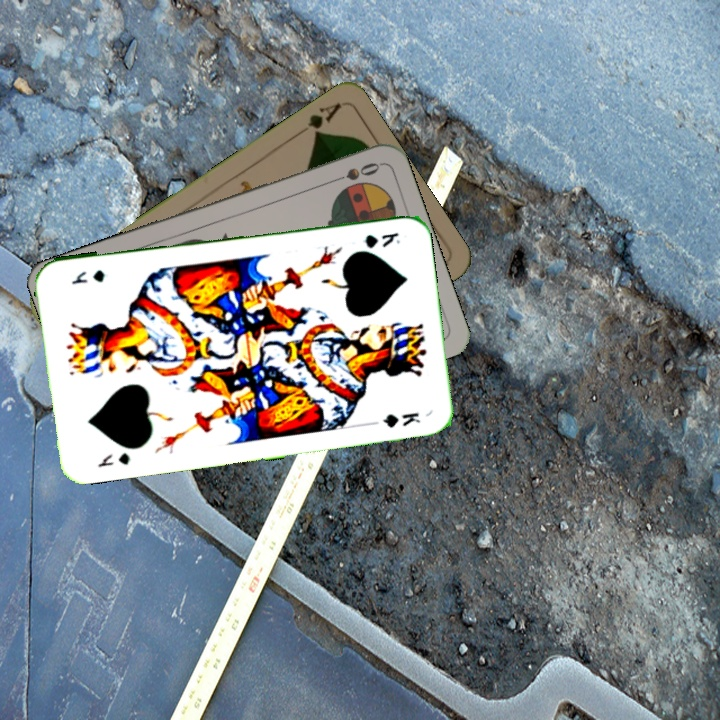GA: (291, 99, 343, 141)
GK: (360, 228, 402, 250), (94, 448, 133, 470)
SO: (325, 158, 383, 186)
